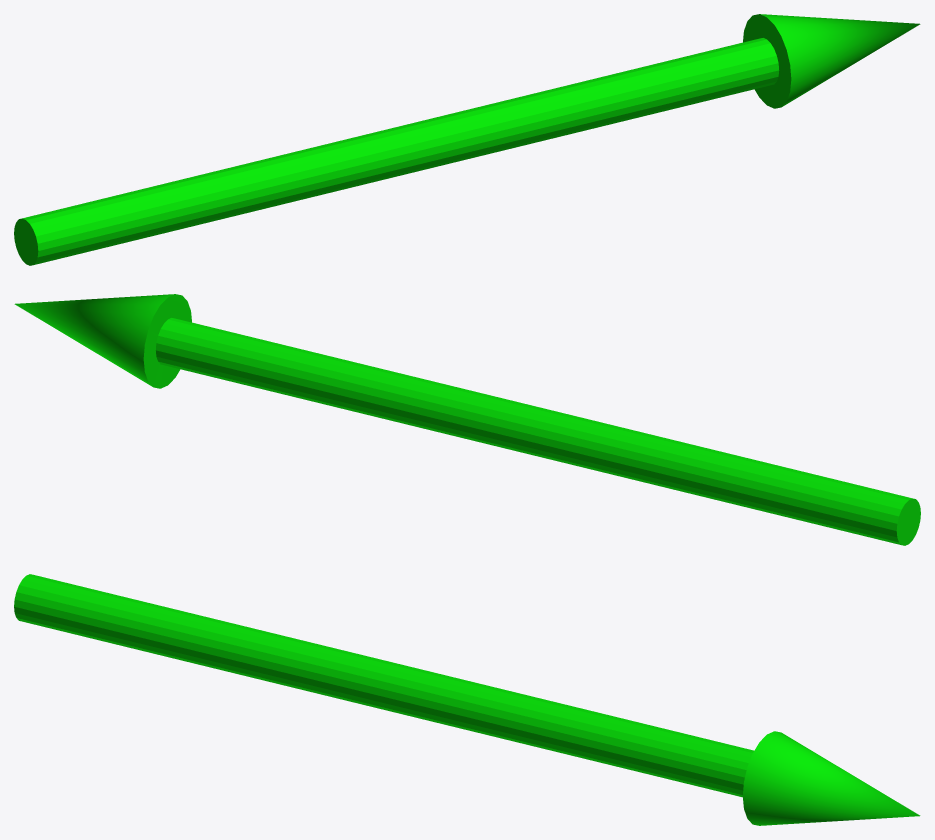
The model's file is arrowG.fbx.
3 views of the same model, one above another, from view 1: azimuth 30°, elevation 25°; view 2: azimuth 150°, elevation 25°; view 3: azimuth 330°, elevation 25° (orthographic).
Visible parts, largest first — view 1: pCone1; view 2: pCone1; view 3: pCone1.
Part boxes in pixels (box(x1,y1,x2,y2)): pCone1: box(14, 14, 920, 265); pCone1: box(14, 294, 920, 545); pCone1: box(14, 574, 920, 825).
Size of the model in its own units: 0.0642 by 0.00603 by 0.00603.
